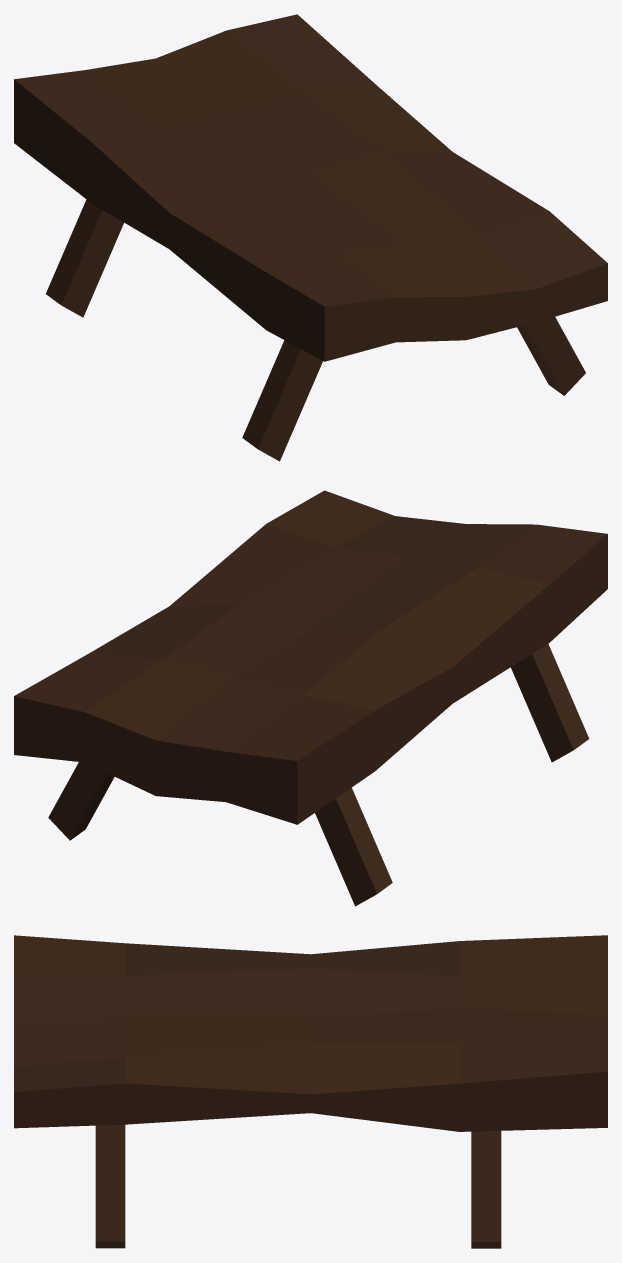
File: Table_Medium.fbx
3 renders of one model, top to bottom at view 1: azimuth 30°, elevation 25°; view 2: azimuth 150°, elevation 25°; view 3: azimuth 270°, elevation 25°, orthographic. The views are drawn at different scales.
Parts seen in each view (by area): view 1: Table Medium; view 2: Table Medium; view 3: Table Medium.
Boxes of the visible parts, bbox=[...] form: Table Medium: bbox=[14, 14, 607, 461]; Table Medium: bbox=[14, 490, 607, 906]; Table Medium: bbox=[14, 935, 607, 1248].
Size of the model in its own units: 122 by 67.39 by 200.
